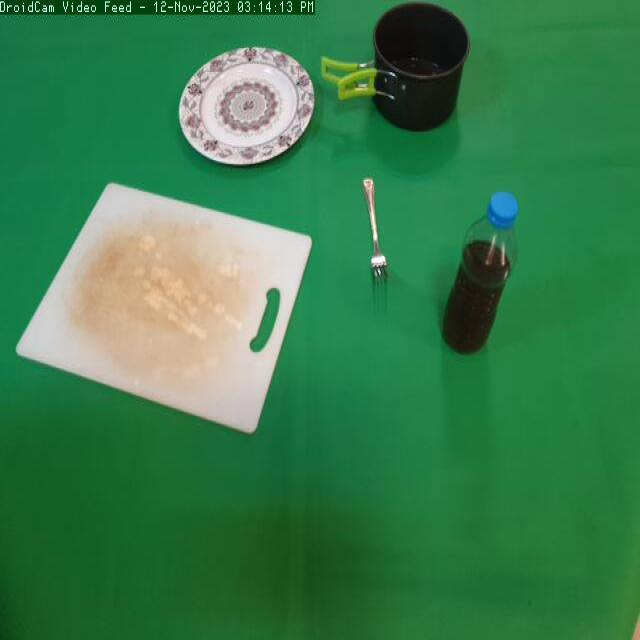cutting board: (13, 172, 323, 444)
fork: (354, 170, 396, 310)
fullbottle: (438, 178, 527, 363)
plate: (170, 40, 314, 176)
pot: (318, 4, 477, 150)
